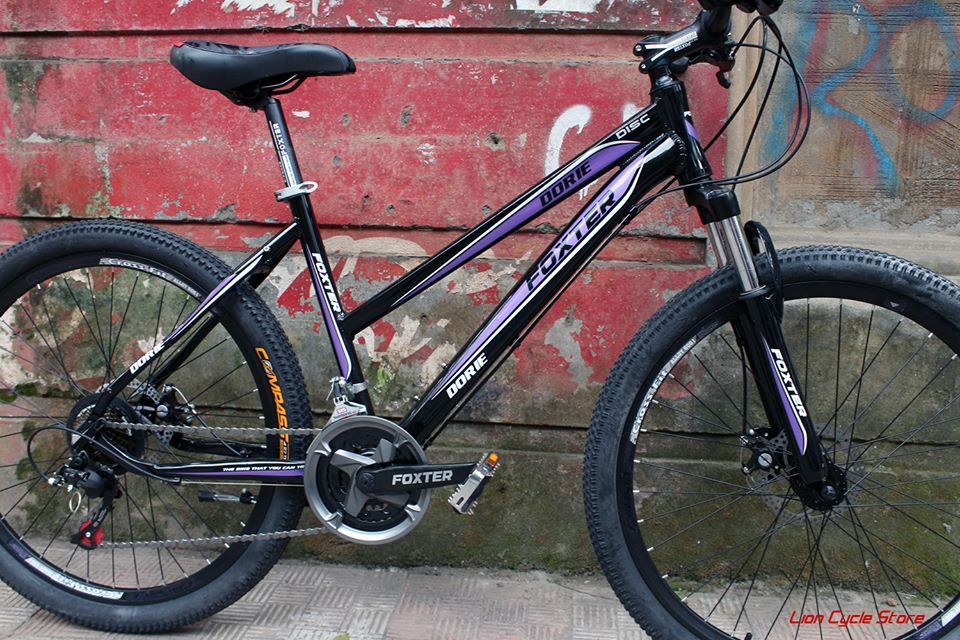bicycle: (6, 12, 950, 638)
